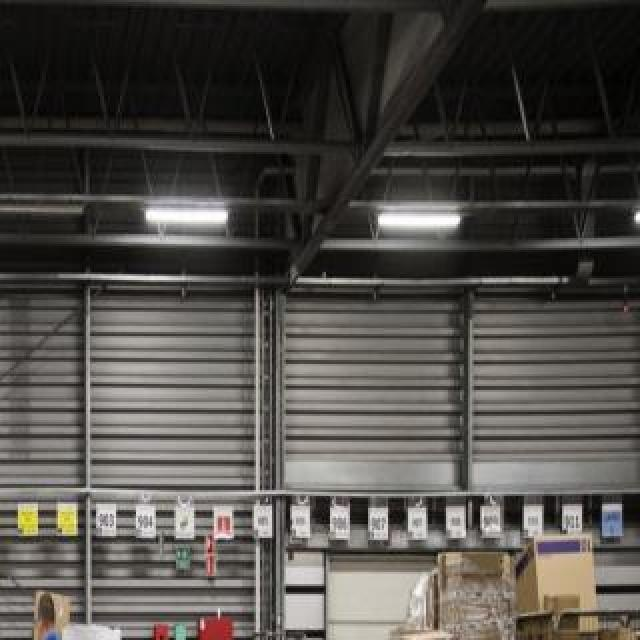fluorescent tube: (369, 205, 471, 240), (133, 206, 242, 229)
